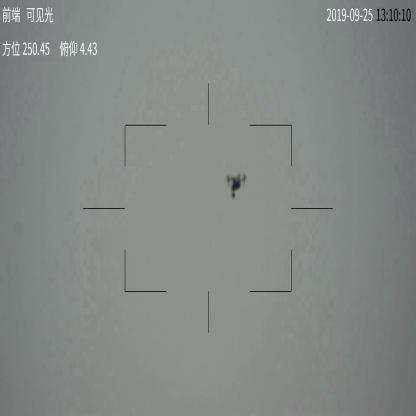uav: (222, 173, 248, 202)
